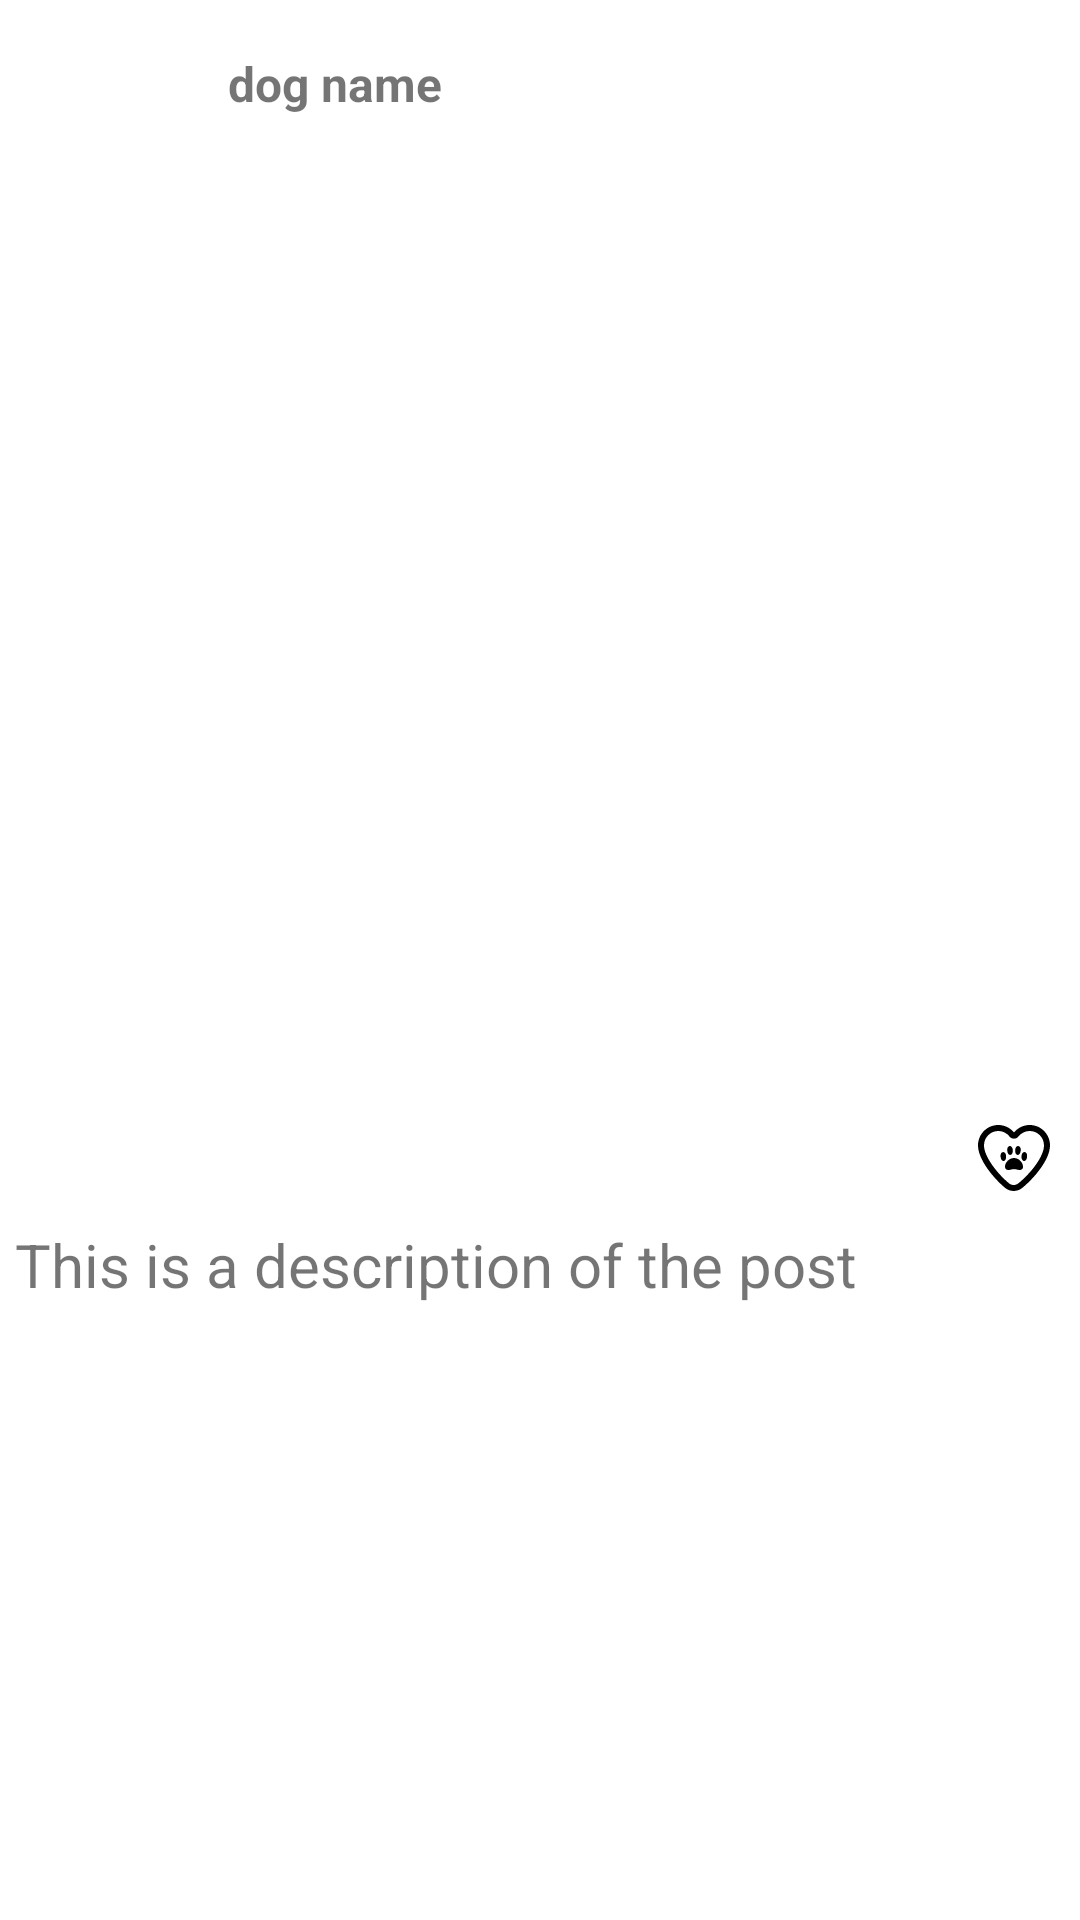

Icon click points for this 1080w x 1920h phone screenshot, format (x,y):
paw heart: (1014,1158)
